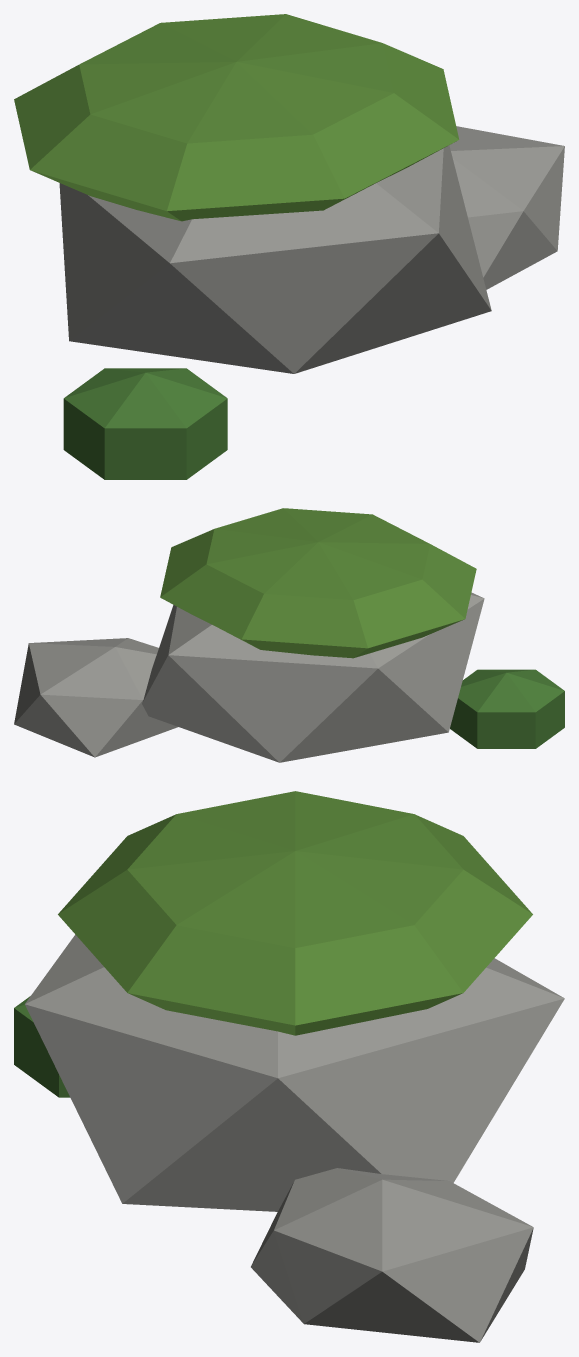
The model's file is mossy_rock.glb.
The picture shows the model from 3 angles, top to bottom: view 1: azimuth 30°, elevation 25°; view 2: azimuth 150°, elevation 25°; view 3: azimuth 270°, elevation 25°; orthographic projection. The views are drawn at different scales.
Visible parts, largest first — view 1: mossy_rock; view 2: mossy_rock; view 3: mossy_rock.
Boxes of the visible parts, x1,y1,x2,y2 form: mossy_rock: (14, 14, 564, 479); mossy_rock: (14, 508, 564, 762); mossy_rock: (14, 791, 564, 1342).
Bounding box in the file's own units: 2.22 × 1.07 × 1.59.
